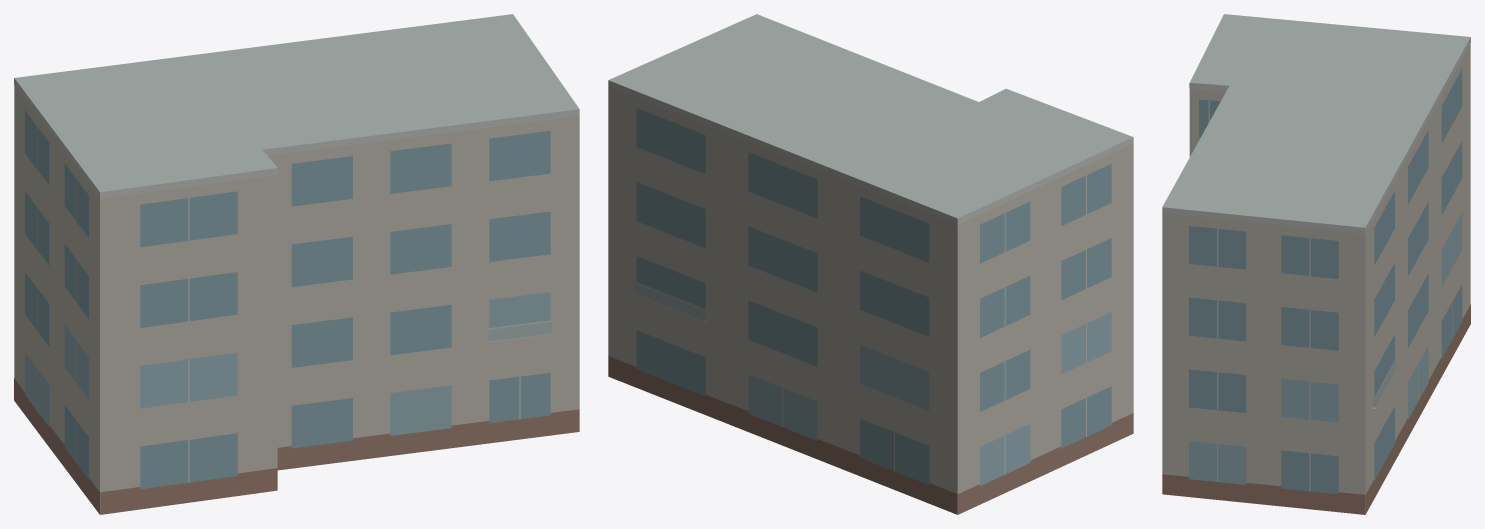
Rendered from survey-upis-32856099.glb.
The picture shows the model from 3 angles, left to right: view 1: azimuth 30°, elevation 25°; view 2: azimuth 150°, elevation 25°; view 3: azimuth 270°, elevation 25°; orthographic projection. The views are drawn at different scales.
Parts seen in each view (by area): view 1: survey-upis-32856099.tmp; view 2: survey-upis-32856099.tmp; view 3: survey-upis-32856099.tmp.
Part boxes in pixels (bbox=[...]): survey-upis-32856099.tmp: bbox=[14, 14, 579, 514]; survey-upis-32856099.tmp: bbox=[608, 14, 1133, 514]; survey-upis-32856099.tmp: bbox=[1162, 14, 1470, 514].
Size of the model in its own units: 18.54 by 11.6 by 11.31.
